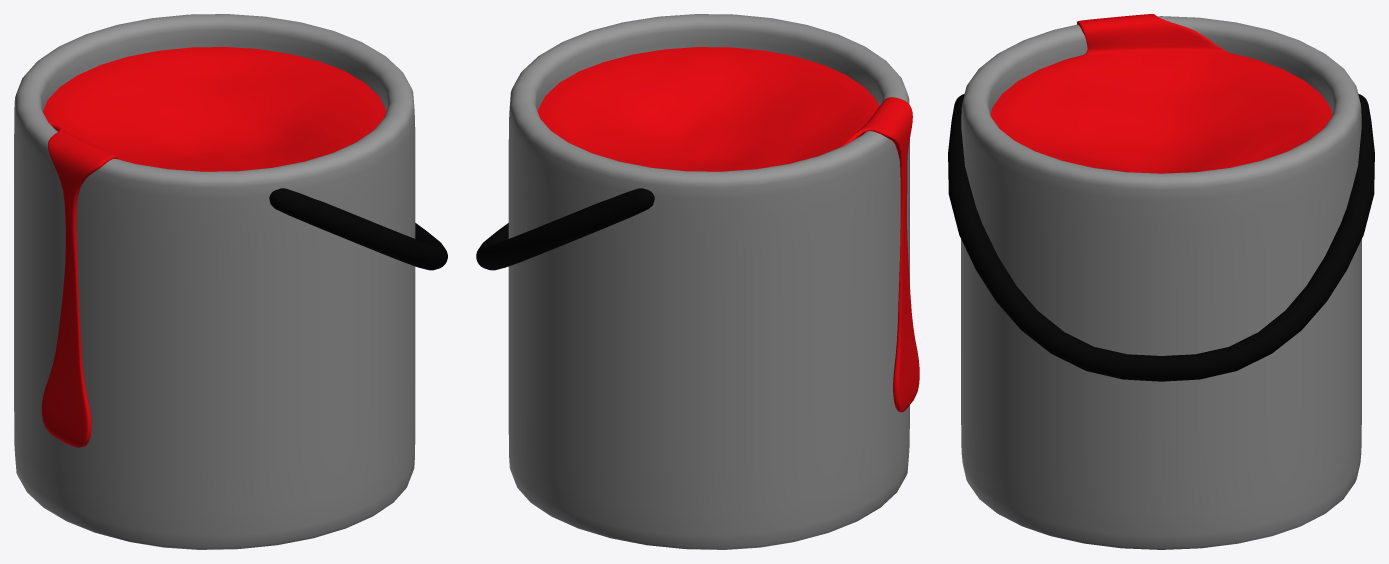
File: peinture_pot.fbx
The picture shows the model from 3 angles, left to right: view 1: azimuth 30°, elevation 25°; view 2: azimuth 150°, elevation 25°; view 3: azimuth 270°, elevation 25°; orthographic projection.
Visible parts, largest first — view 1: pot_peinture, peinture, Handle_pot; view 2: pot_peinture, peinture, Handle_pot; view 3: pot_peinture, peinture, Handle_pot.
Part boxes in pixels (box(x1,y1,x2,y2)): pot_peinture: box(14, 14, 415, 549); peinture: box(41, 47, 386, 447); Handle_pot: box(269, 188, 447, 270); pot_peinture: box(508, 14, 909, 549); peinture: box(537, 47, 919, 412); Handle_pot: box(476, 188, 654, 270); pot_peinture: box(961, 16, 1361, 549); peinture: box(990, 14, 1332, 173); Handle_pot: box(948, 94, 1374, 381).
Size of the model in its own units: 45.55 by 43.13 by 44.38.
